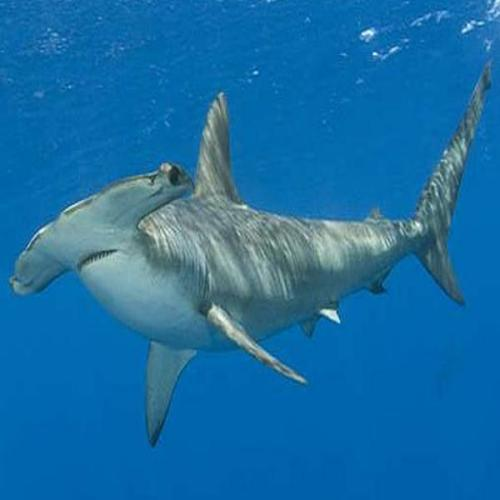shark-endangered: (10, 60, 494, 450)
